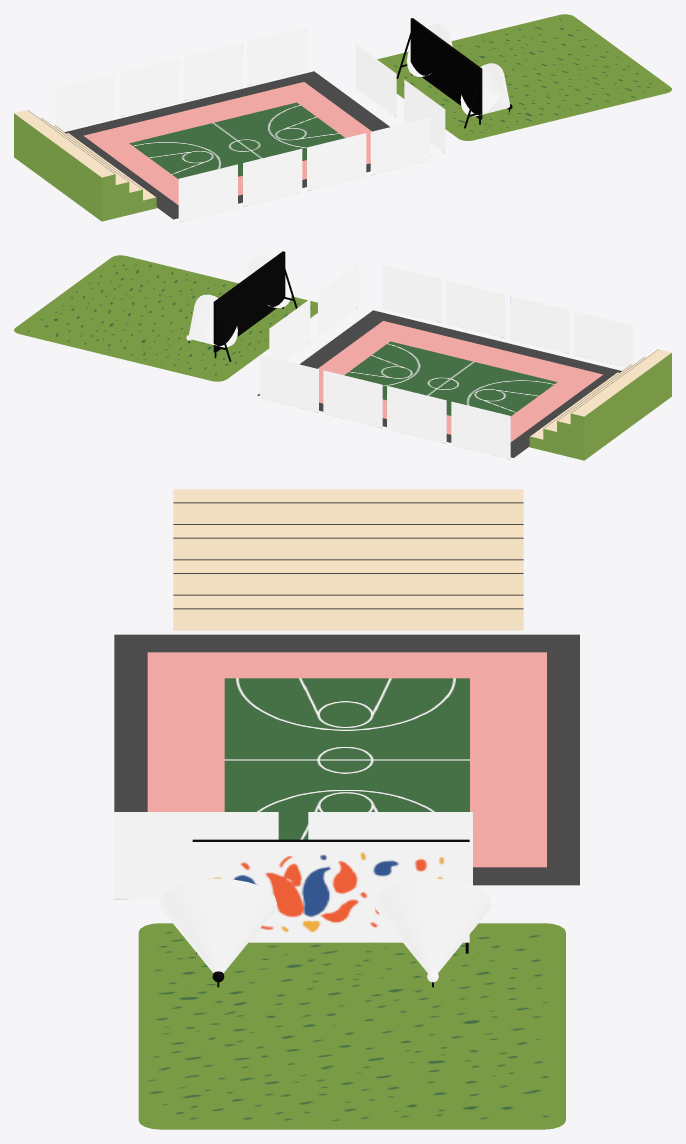
Rendered from 学校 top.fbx.
The picture shows the model from 3 angles, top to bottom: view 1: azimuth 30°, elevation 25°; view 2: azimuth 150°, elevation 25°; view 3: azimuth 270°, elevation 25°; orthographic projection. The views are drawn at different scales.
Visible parts, largest first — view 1: Plane_1, Plane_2, Cube, Plane_13, Plane_6, Plane, Plane_4, Plane_8, Plane_9, Plane_10, Plane_5, Plane_7 (+4 smaller); view 2: Plane_1, Plane_2, Cube, Plane_13, Plane_5, Plane_7, Plane_9, Plane_4, Plane_6, Plane_8, Plane_10, Plane (+4 smaller); view 3: Plane_1, Plane_2, Cube, Plane_13, Plane_12, Cylinder_2, Cylinder, Plane_11.
Part boxes in pixels (x1,y1,x2,y2): Plane_1: (65,71,430,219); Plane_2: (377,14,671,140); Cube: (14,110,156,221); Plane_13: (396,18,482,128); Plane_6: (370,117,430,175); Plane: (178,164,237,222); Plane_4: (243,148,302,206); Plane_8: (119,58,178,116); Plane_9: (183,43,242,100); Plane_10: (247,27,306,85); Plane_5: (307,133,366,191); Plane_7: (55,74,114,130); Plane_1: (257,310,621,457); Plane_2: (14,255,317,381); Cube: (529,349,671,460); Plane_13: (213,251,297,361); Plane_5: (446,280,505,338); Plane_7: (451,401,510,459); Plane_9: (323,370,382,428); Plane_4: (510,296,569,353); Plane_6: (382,265,441,322); Plane_8: (387,386,446,443); Plane_10: (259,355,318,412); Plane: (574,311,633,367); Plane_1: (114,634,579,885); Plane_2: (138,923,565,1129); Cube: (173,489,523,630); Plane_13: (192,839,469,953); Plane_12: (114,812,278,899); Cylinder_2: (160,878,276,972); Cylinder: (374,878,491,972); Plane_11: (308,812,472,885).
Bounding box in the file's own units: 2415 × 234 × 912.
